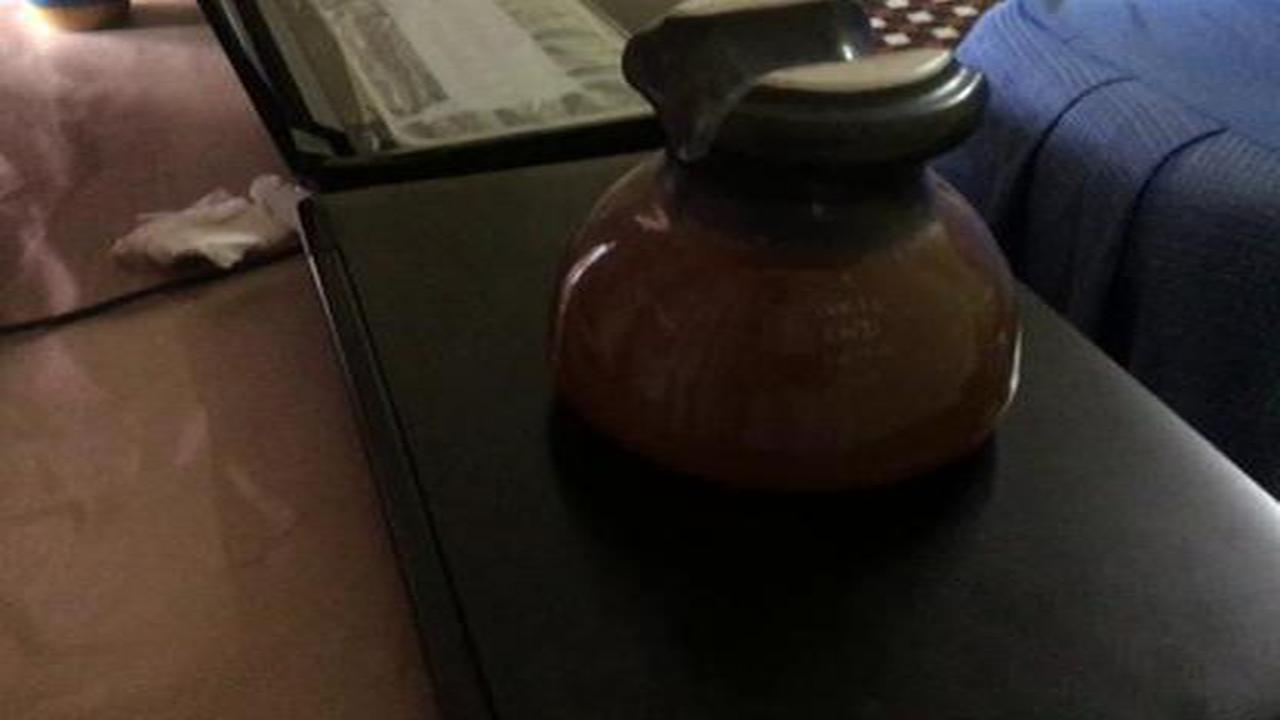insulator_pin: (548, 2, 1041, 504)
